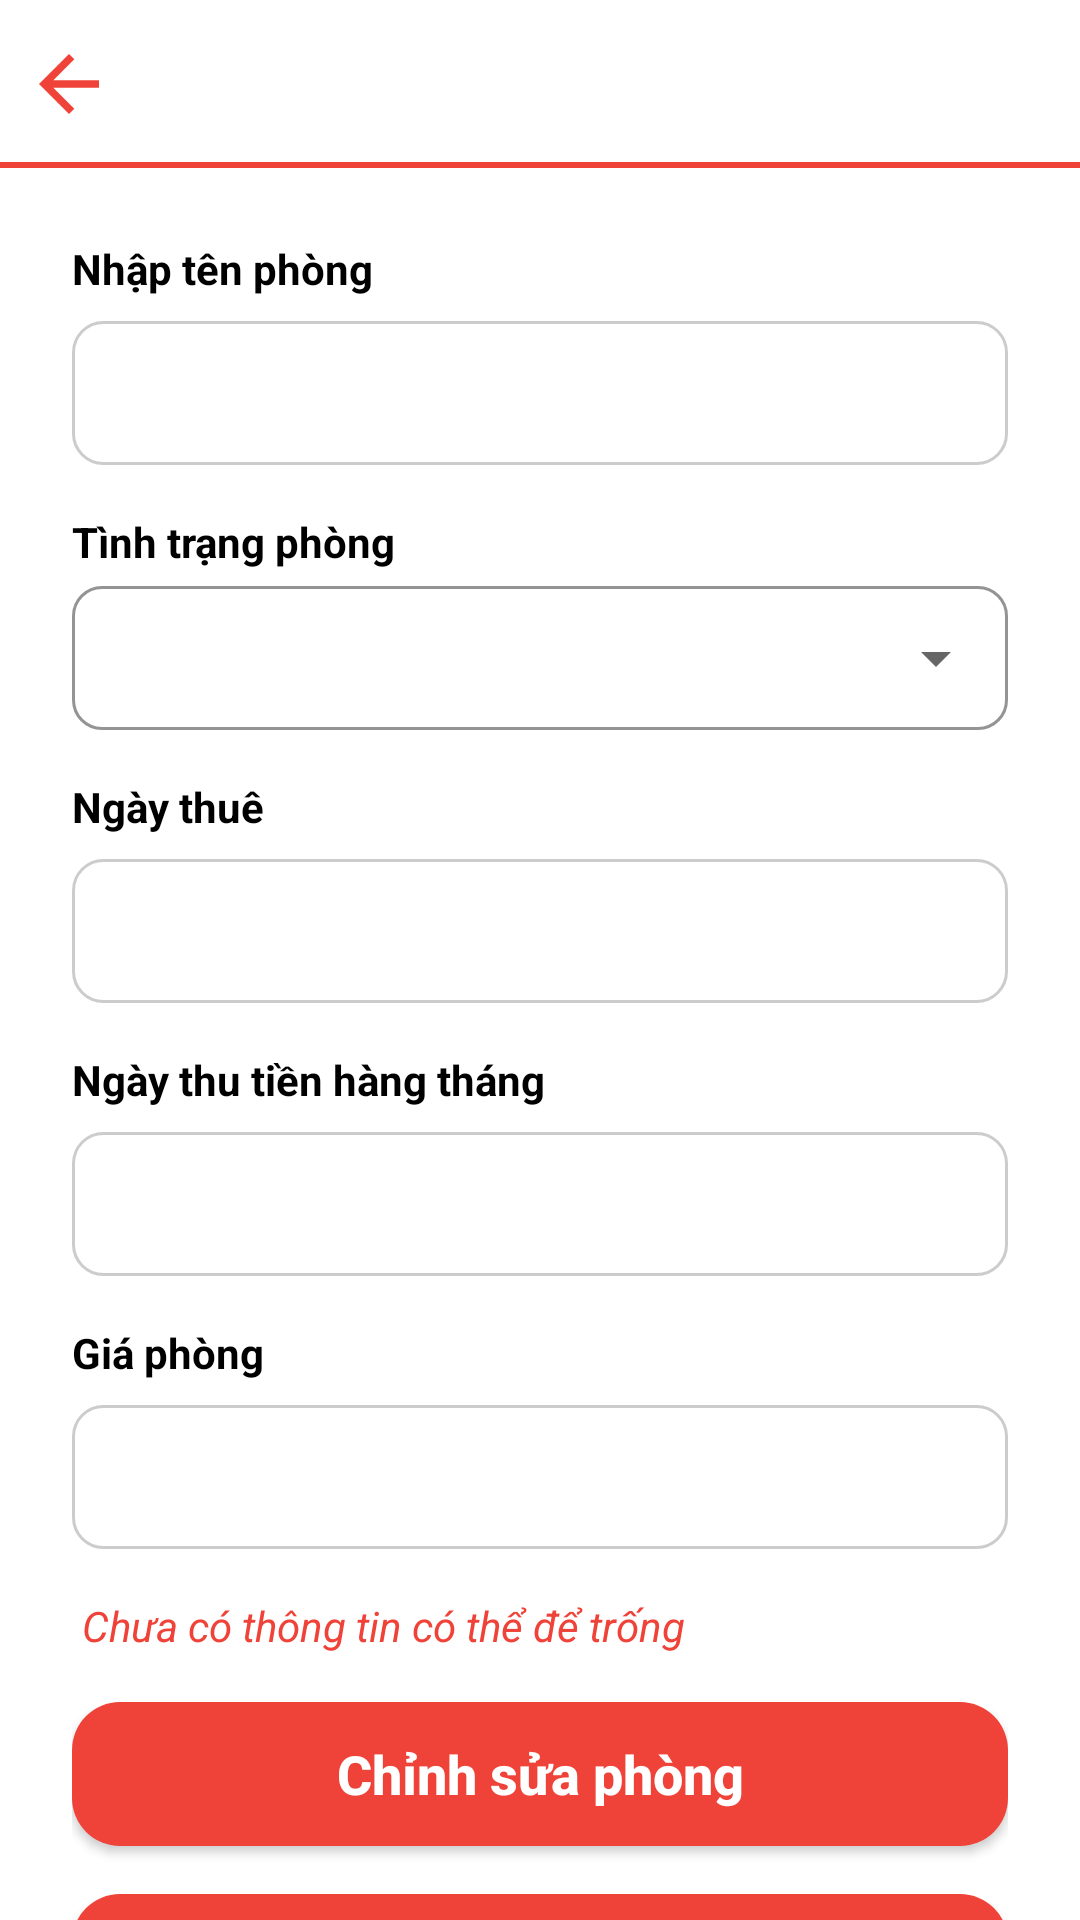

Where icons sit on this 1080x1920 app screen, as (x1, y1, x2, y2):
back: (39, 54, 99, 114)
